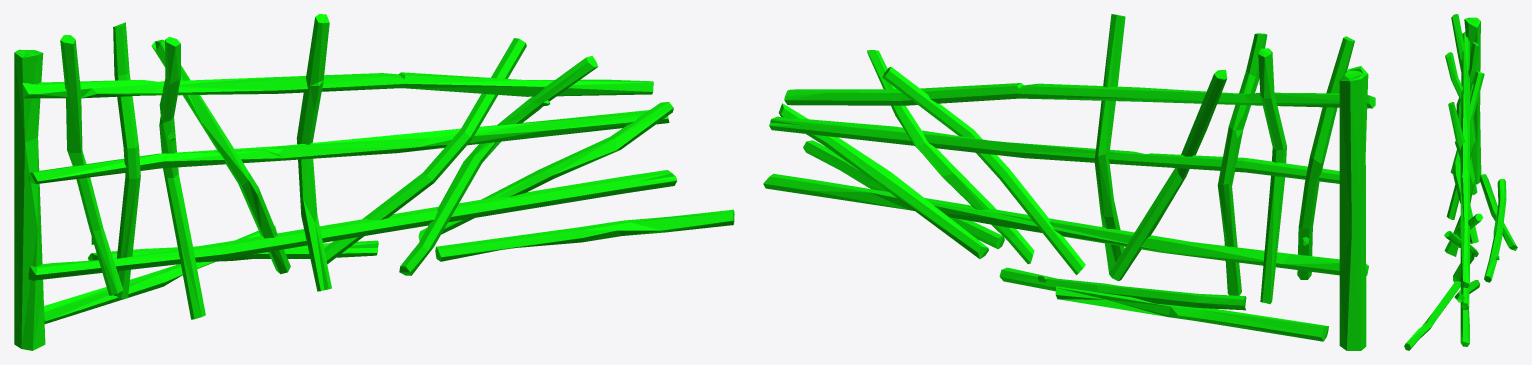
The model's file is SM_Fence_Stick_Weave_3m_Broken_B.fbx.
3 views of the same model, side by side, from view 1: azimuth 30°, elevation 25°; view 2: azimuth 150°, elevation 25°; view 3: azimuth 270°, elevation 25° (orthographic). The views are drawn at different scales.
Parts seen in each view (by area): view 1: fence-stick-weave-3m-broken-b; view 2: fence-stick-weave-3m-broken-b; view 3: fence-stick-weave-3m-broken-b.
Boxes of the visible parts, left/top/right/bottom form: fence-stick-weave-3m-broken-b: left=14, top=14, right=734, bottom=350; fence-stick-weave-3m-broken-b: left=763, top=14, right=1375, bottom=350; fence-stick-weave-3m-broken-b: left=1404, top=14, right=1517, bottom=350.
Size of the model in its own units: 3.22 by 1.5 by 0.8695.
